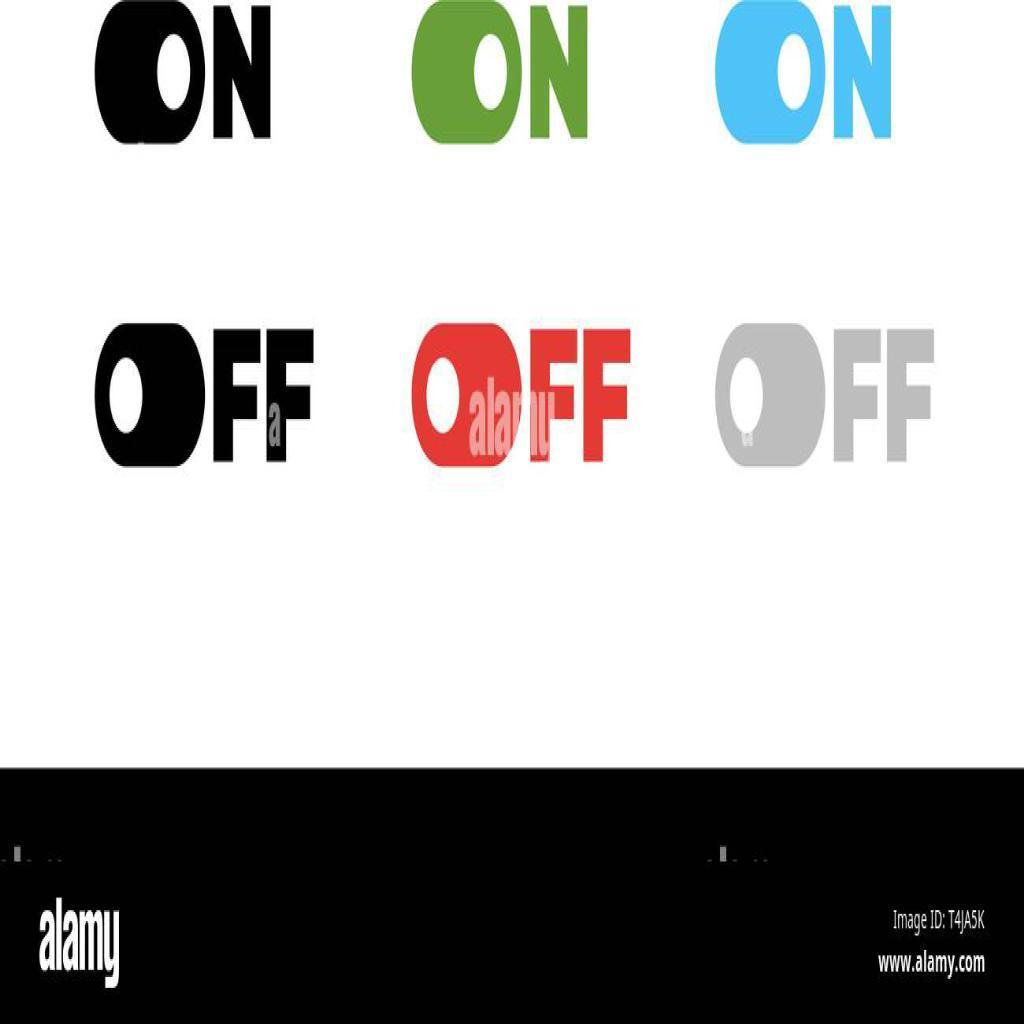switch: (711, 2, 833, 143), (93, 1, 210, 146), (409, 324, 522, 470), (412, 1, 524, 144), (98, 322, 207, 467), (715, 325, 826, 466)
